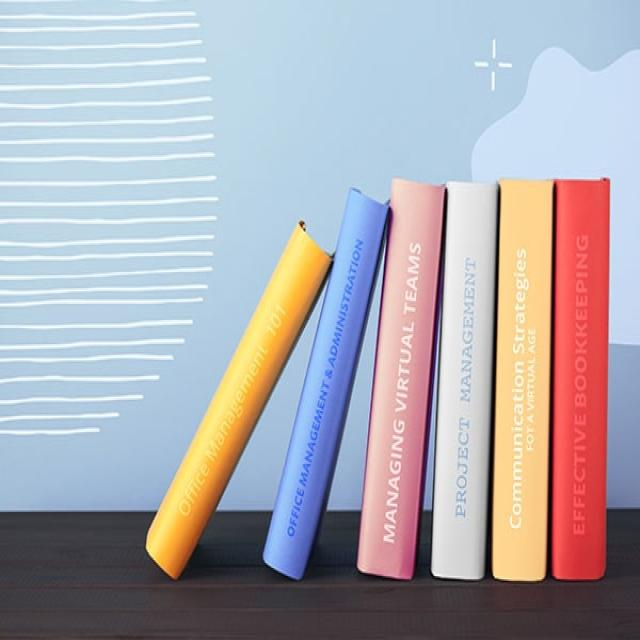Books: (146, 221, 331, 578), (264, 189, 389, 579), (358, 180, 445, 578), (431, 182, 499, 580), (491, 180, 554, 580), (551, 180, 610, 579)
